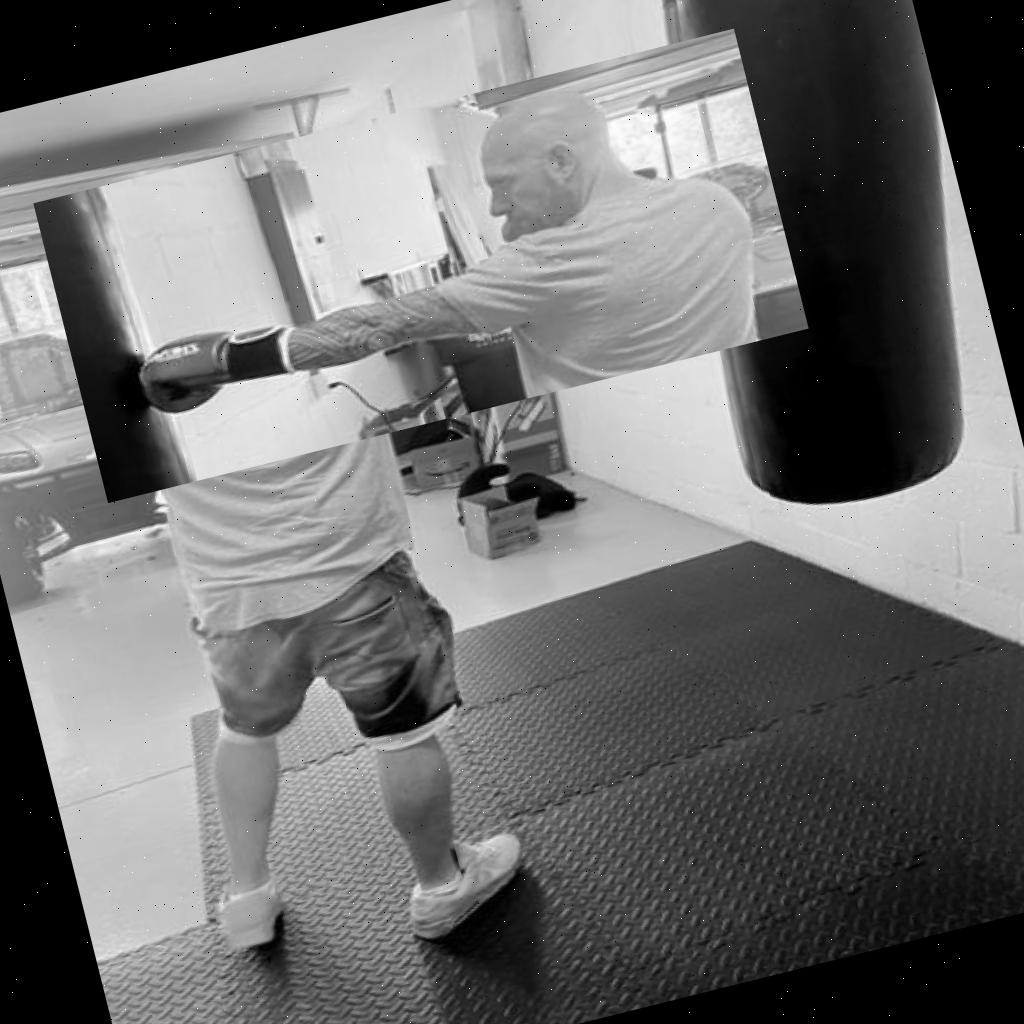jab: (34, 28, 808, 502)
